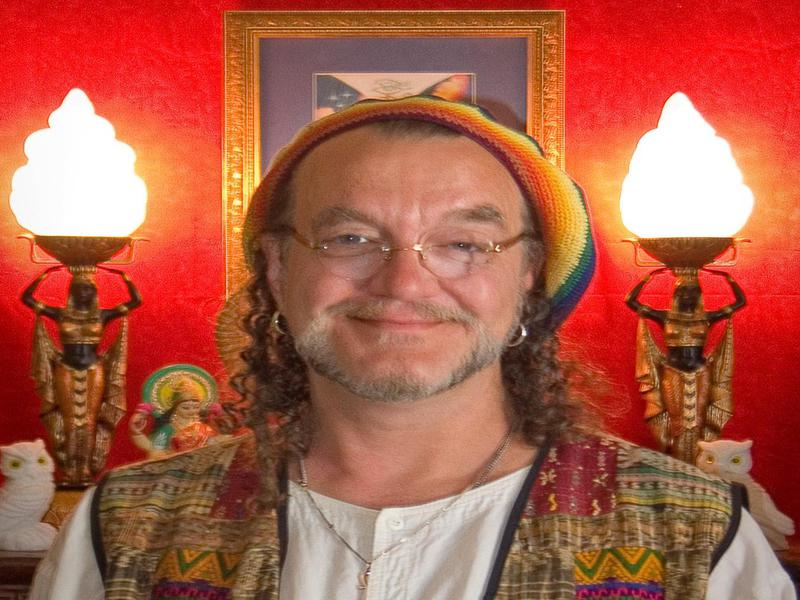person: (44, 97, 779, 600)
